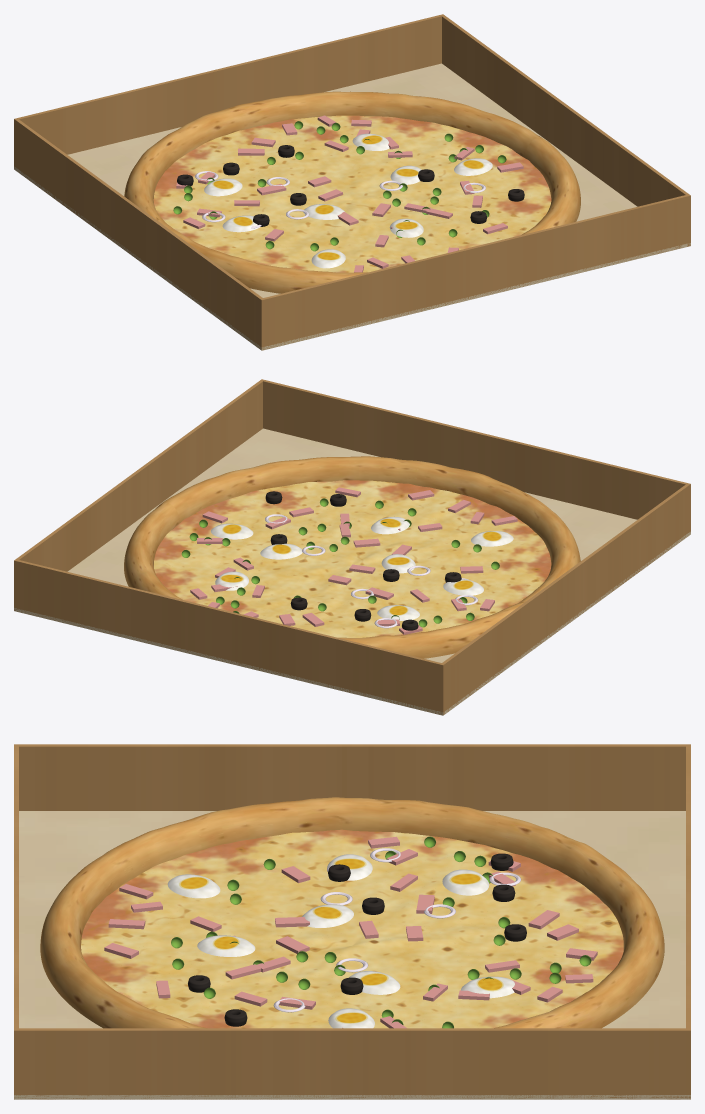
Rendered from pizza-caixa-portuguesa.glb.
The picture shows the model from 3 angles, top to bottom: view 1: azimuth 30°, elevation 25°; view 2: azimuth 150°, elevation 25°; view 3: azimuth 270°, elevation 25°; orthographic projection. The views are drawn at different scales.
Visible parts, largest first — view 1: pizza-caixa-portuguesa; view 2: pizza-caixa-portuguesa; view 3: pizza-caixa-portuguesa.
Boxes of the visible parts, left/top/right/bottom form: pizza-caixa-portuguesa: left=14, top=14, right=690, bottom=350; pizza-caixa-portuguesa: left=14, top=379, right=690, bottom=715; pizza-caixa-portuguesa: left=14, top=744, right=690, bottom=1099.
Size of the model in its own units: 0.4 by 0.045 by 0.4.
Materials: 9 (5 with a texture image).
